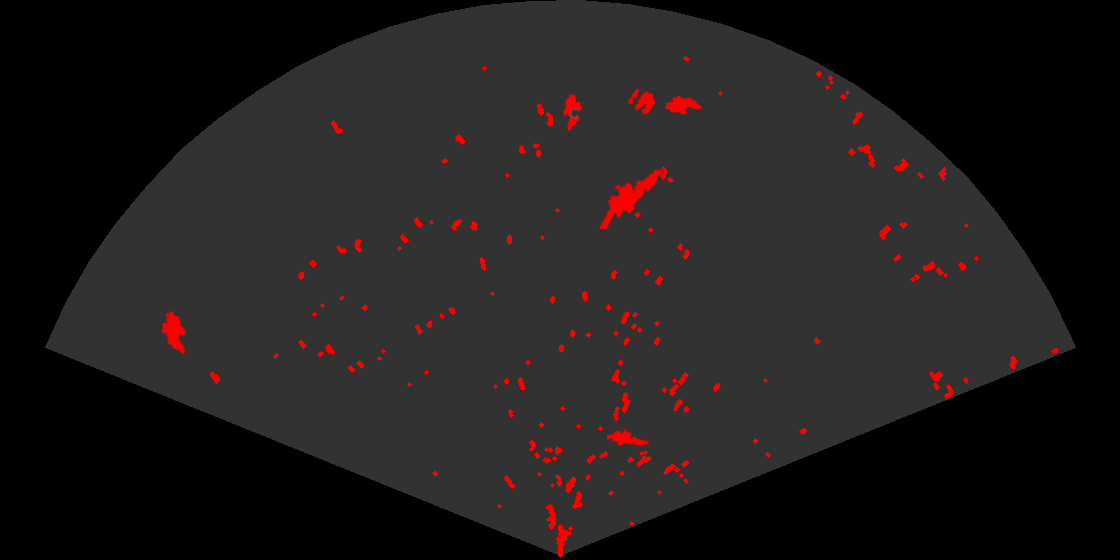AUV: (160, 309, 188, 356), (561, 92, 584, 133), (664, 94, 704, 116)
ball: (626, 87, 657, 116)
frogman: (597, 167, 664, 229), (607, 427, 649, 448)
